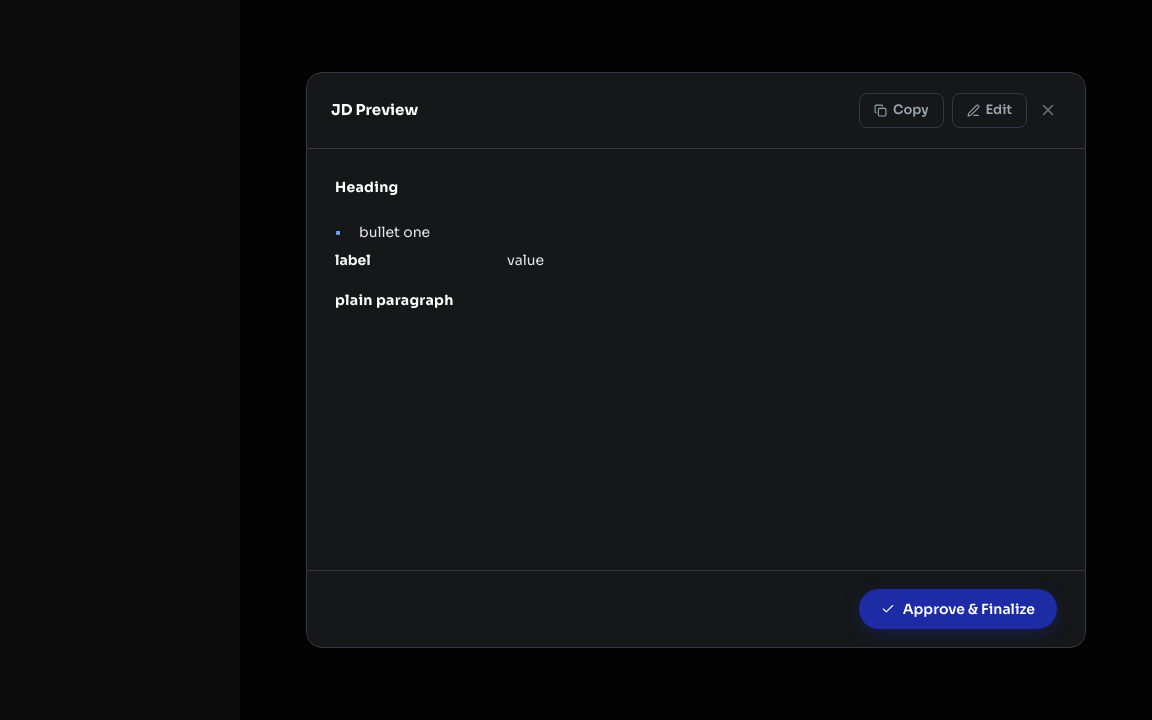
JDPreviewModal › toggles between preview and edit modes
Click the button "Edit" at coordinates (989, 110), box 952,93 -> 1027,128
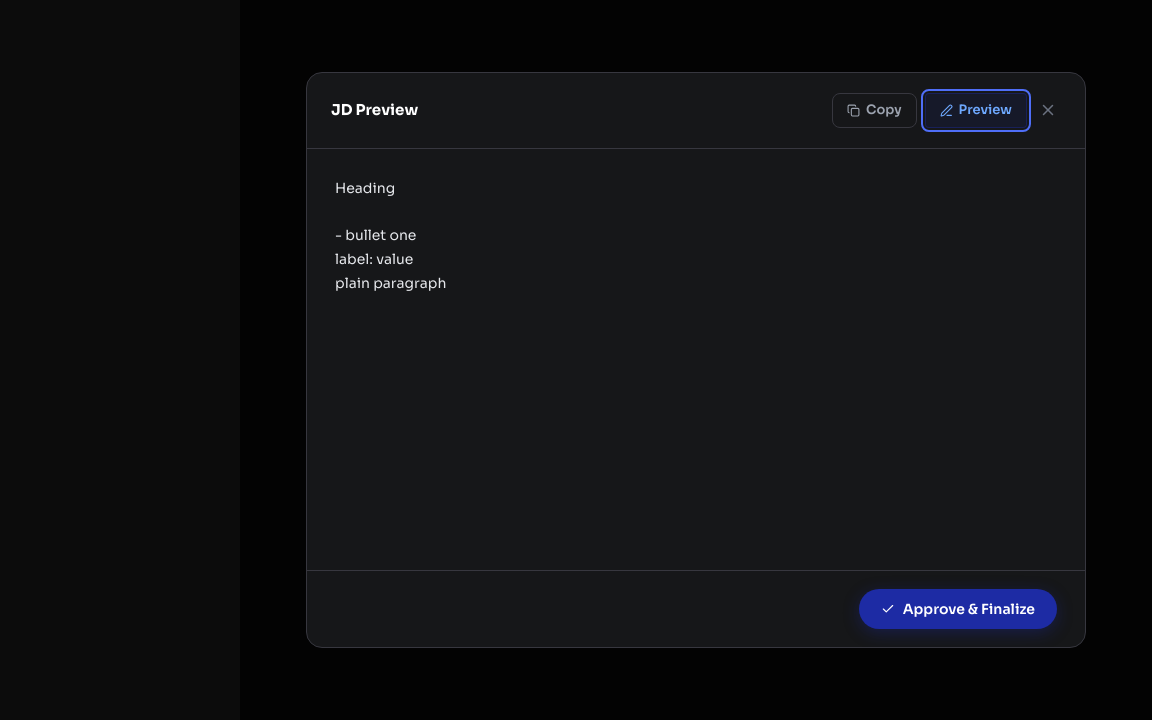
Expected: the text box is shown, 335,177 -> 1057,551
